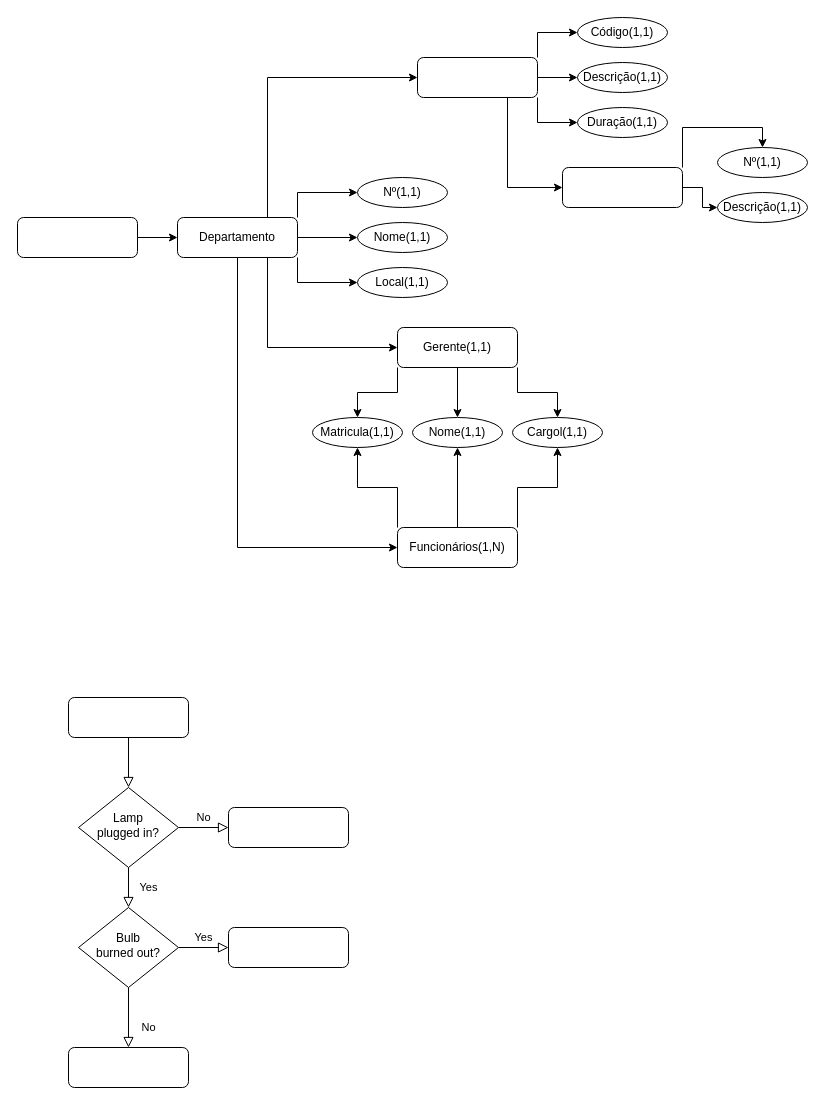
This 825x1105 diagram has some shape labels left out. Each missing label, with the centre of its shape:
"Departamentos(1,N)" goes at pixel 77 237.
"Lamp doesn't work" goes at pixel 128 717.
"Peças(1,N)" goes at pixel 622 187.
"Plug in lamp" goes at pixel 288 827.
"Projetos(1,N)" goes at pixel 477 77.
"Repair Lamp" goes at pixel 128 1067.
"Replace Bulb" goes at pixel 288 947.
